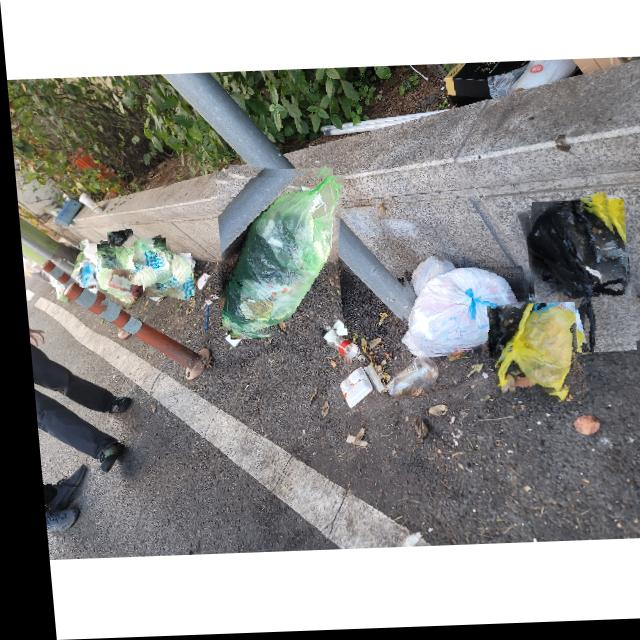general_trashbag: (215, 178, 340, 336), (121, 240, 167, 284), (139, 255, 187, 295), (95, 271, 138, 309), (94, 245, 130, 273)
other_trashbag: (523, 210, 623, 357), (395, 272, 521, 356), (489, 308, 570, 398), (402, 260, 456, 303), (104, 231, 127, 248), (75, 263, 90, 288)
